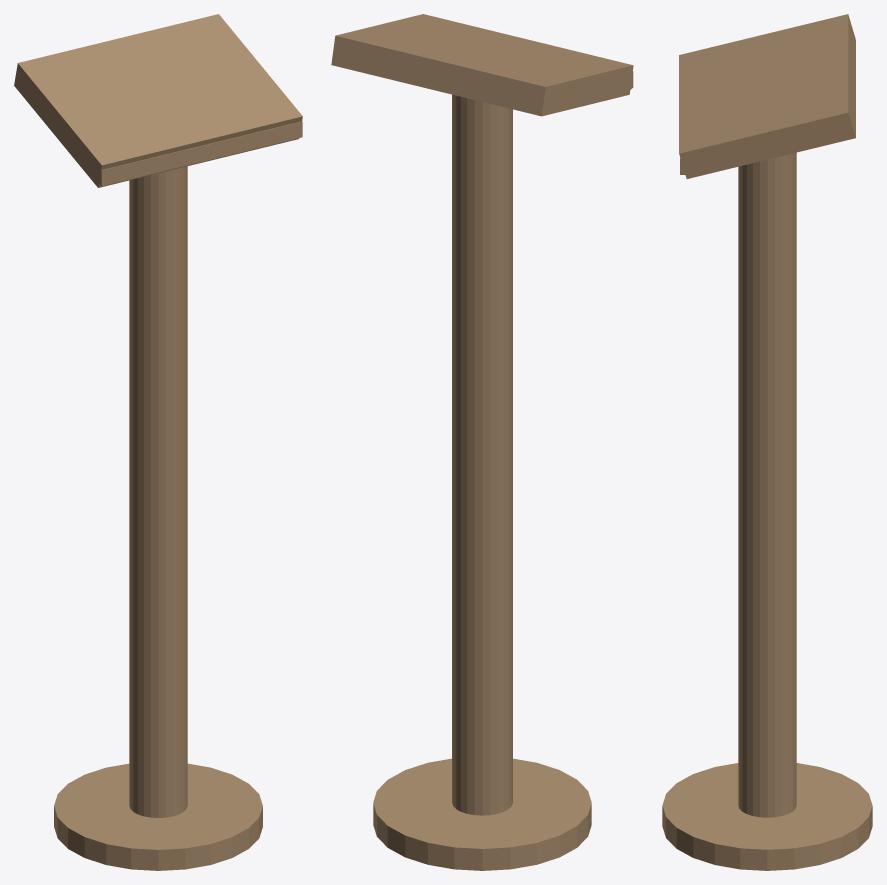
File: WoodenLectern.fbx
3 renders of one model, left to right at view 1: azimuth 30°, elevation 25°; view 2: azimuth 150°, elevation 25°; view 3: azimuth 270°, elevation 25°, orthographic. The views are drawn at different scales.
Visible parts, largest first — view 1: WoodenLectern; view 2: WoodenLectern; view 3: WoodenLectern.
Part boxes in pixels (left/top/right/bottom): WoodenLectern: left=14, top=14, right=302, bottom=870; WoodenLectern: left=331, top=14, right=633, bottom=870; WoodenLectern: left=662, top=14, right=872, bottom=870.
Size of the model in its own units: 40 by 146 by 36.
